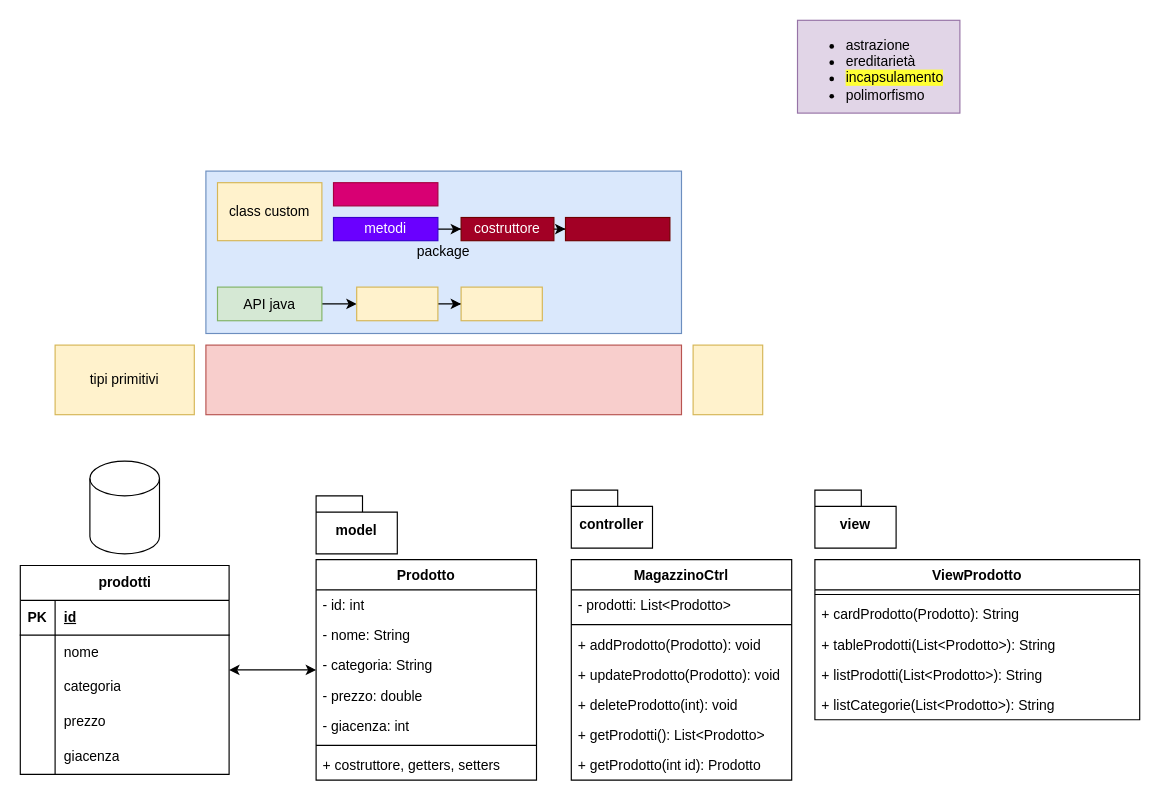
The diagram is 1160 pixels wide and 804 high, and some of its shapes have lost their labels. The centre of each missing label's shape, as x and y in pixels:
"getters, setters" belongs at (x=617, y=228).
"java.lang" belongs at (x=397, y=303).
"java.util" belongs at (x=501, y=303).
"null" belongs at (x=727, y=379).
"proprietà" belongs at (x=385, y=194).
"sql" belongs at (x=124, y=507).
"tipi reference: class, interface, enum, array" belongs at (x=443, y=379).
